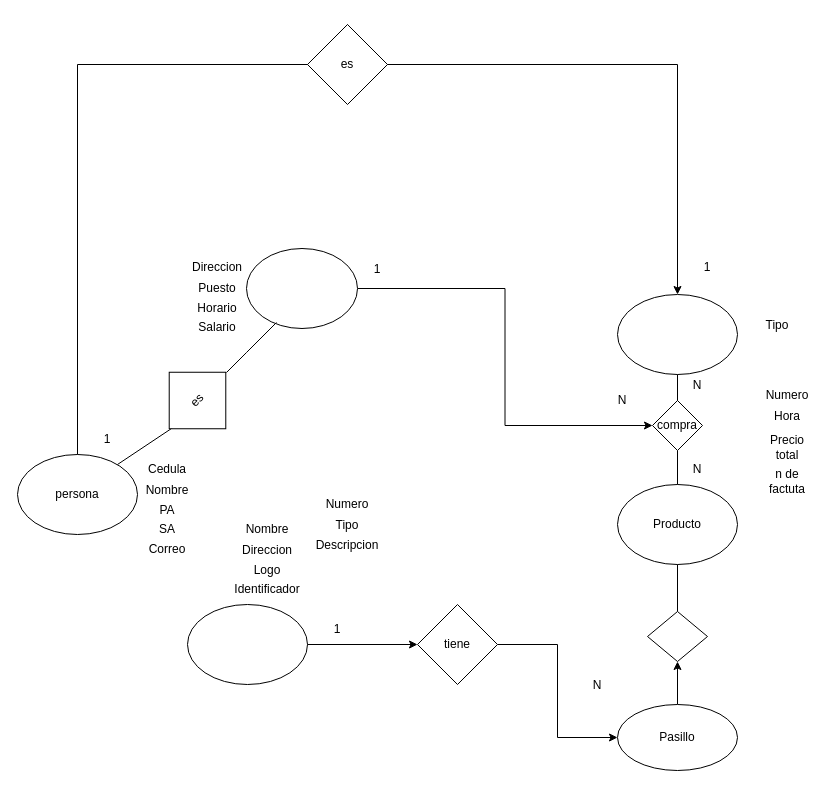
The diagram is 835 pixels wide and 788 high, and some of its shapes have lost their labels. The shapes that lost their labels are listed below. From the top down, each one's centre as x and y in pixels, then its label:
(302,288): Empleado
(677,334): Cliente
(247,644): Sucursal
(677,636): contiene
